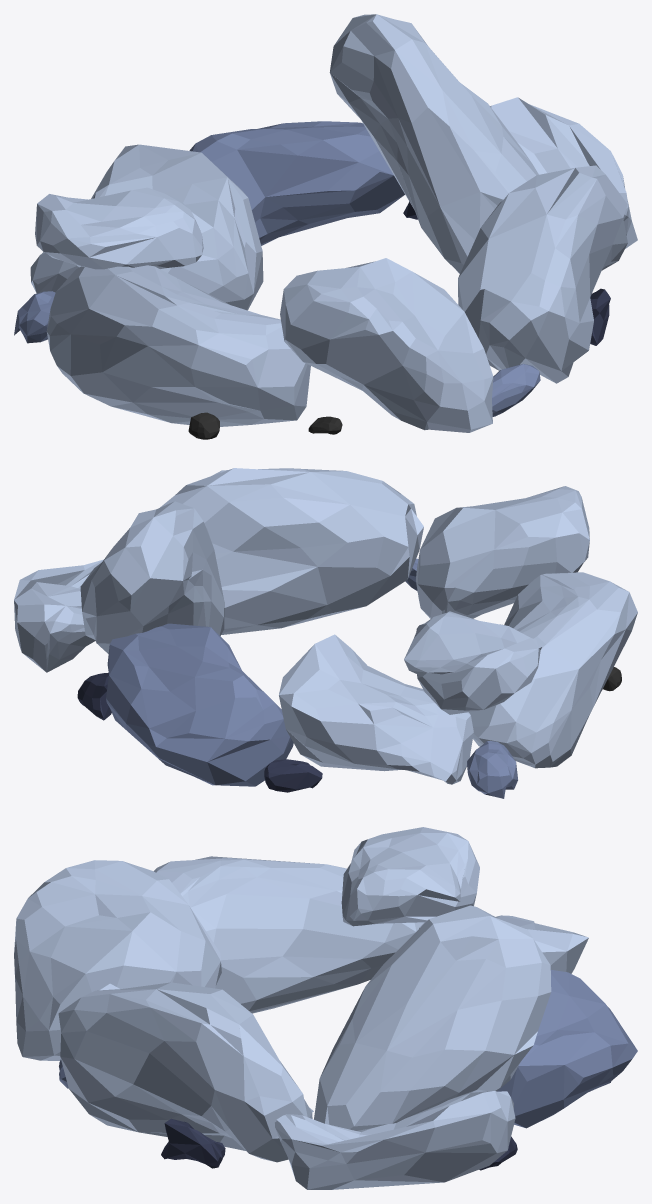
File: RockWall.fbx
3 renders of one model, top to bottom at view 1: azimuth 30°, elevation 25°; view 2: azimuth 150°, elevation 25°; view 3: azimuth 270°, elevation 25°, orthographic. The views are drawn at different scales.
Visible parts, largest first — view 1: Rockwall1, Rockwall2, Rockwall7, Rockwall8, Rockwall3, Rockwall6, Rockwall9, Rockwall4, Rockwall5; view 2: Rockwall1, Rockwall8, Rockwall2, Rockwall3, Rockwall7, Rockwall5, Rockwall9; view 3: Rockwall1, Rockwall2, Rockwall7, Rockwall8, Rockwall3, Rockwall5.
Boxes of the visible parts, x1,y1,x2,y2 form: Rockwall1: (30, 97, 637, 432); Rockwall2: (35, 187, 310, 426); Rockwall7: (329, 14, 538, 273); Rockwall8: (458, 165, 627, 383); Rockwall3: (189, 121, 404, 245); Rockwall6: (492, 364, 540, 416); Rockwall9: (14, 291, 55, 343); Rockwall4: (188, 412, 342, 439); Rockwall5: (403, 201, 610, 345); Rockwall1: (14, 486, 589, 784); Rockwall8: (160, 468, 423, 634); Rockwall2: (404, 572, 637, 768); Rockwall3: (106, 623, 293, 786); Rockwall7: (80, 501, 224, 653); Rockwall5: (77, 672, 322, 792); Rockwall9: (467, 741, 517, 798); Rockwall1: (14, 860, 588, 1189); Rockwall2: (153, 827, 479, 1013); Rockwall7: (314, 905, 551, 1130); Rockwall8: (58, 982, 313, 1162); Rockwall3: (497, 970, 637, 1128); Rockwall5: (161, 1118, 517, 1170).
Size of the model in its own units: 588 by 596 by 253.
